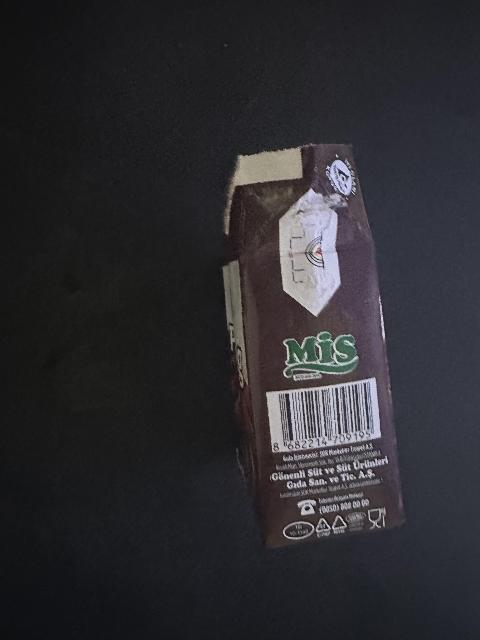Kagit: (219, 138, 407, 556)
